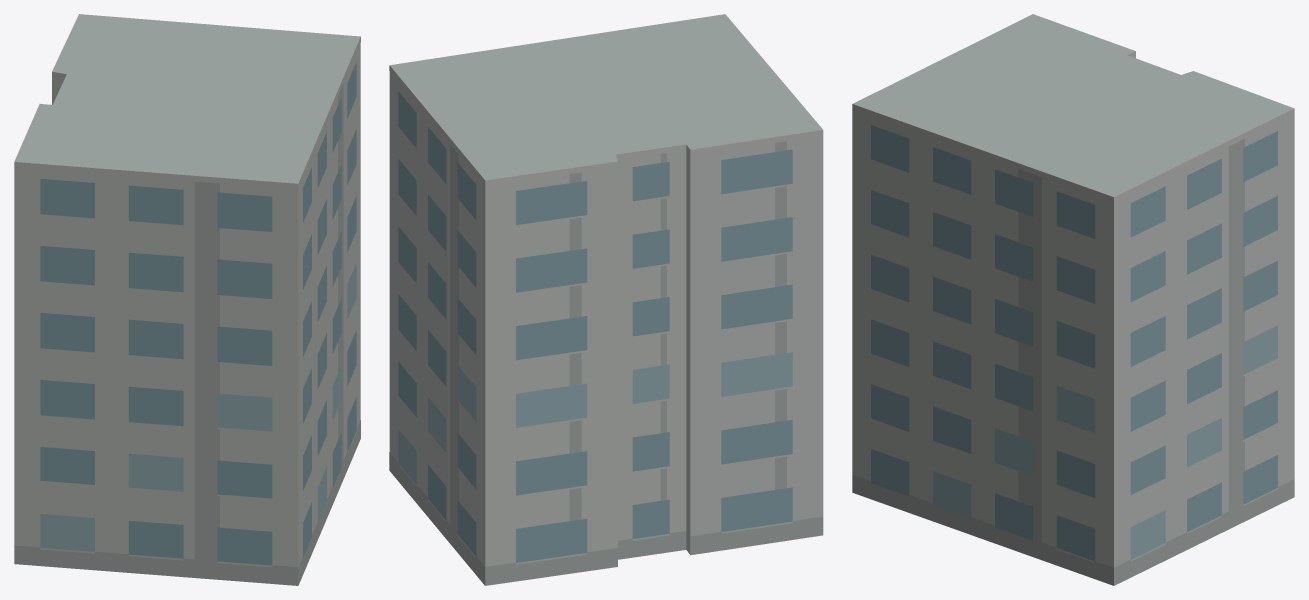
Rendered from survey-upis-32970081.glb.
3 renders of one model, left to right at view 1: azimuth 30°, elevation 25°; view 2: azimuth 150°, elevation 25°; view 3: azimuth 270°, elevation 25°, orthographic. The views are drawn at different scales.
Parts seen in each view (by area): view 1: survey-upis-32970081.tmp; view 2: survey-upis-32970081.tmp; view 3: survey-upis-32970081.tmp.
Part boxes in pixels (x1,y1,x2,y2): survey-upis-32970081.tmp: (14, 14, 360, 585); survey-upis-32970081.tmp: (389, 14, 823, 585); survey-upis-32970081.tmp: (852, 14, 1294, 585).
Bounding box in the file's own units: 16.89 × 16.7 × 17.22.
